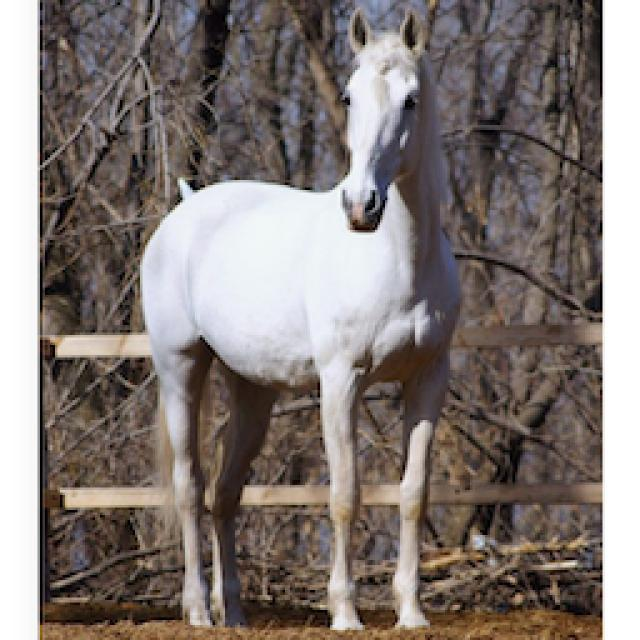Horse: (132, 2, 470, 632)
